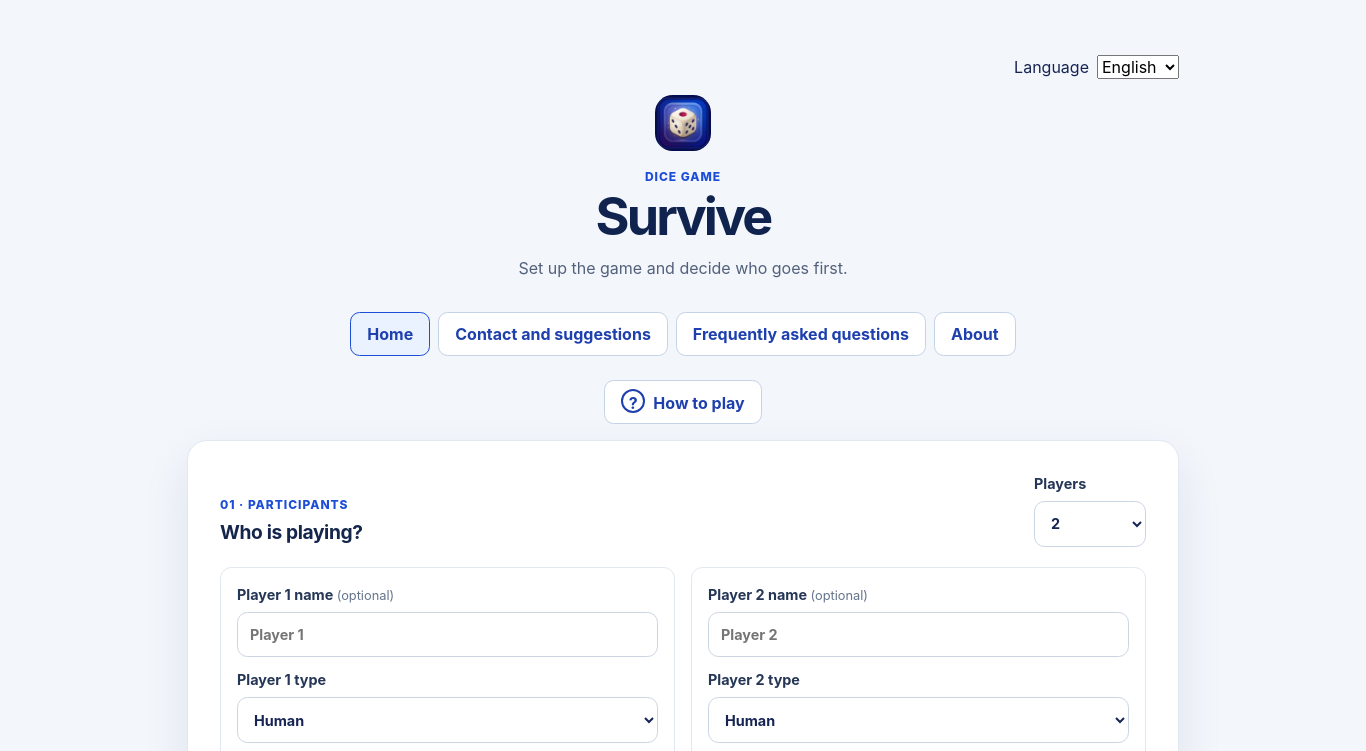
Test: App › traduce errores visibles al cambiar el idioma y no sobrescribe datos dañados
Select "Español" in the dropdown labelled "Language" at (1138, 67), box [1097,55,1179,79]
(page scrolled)
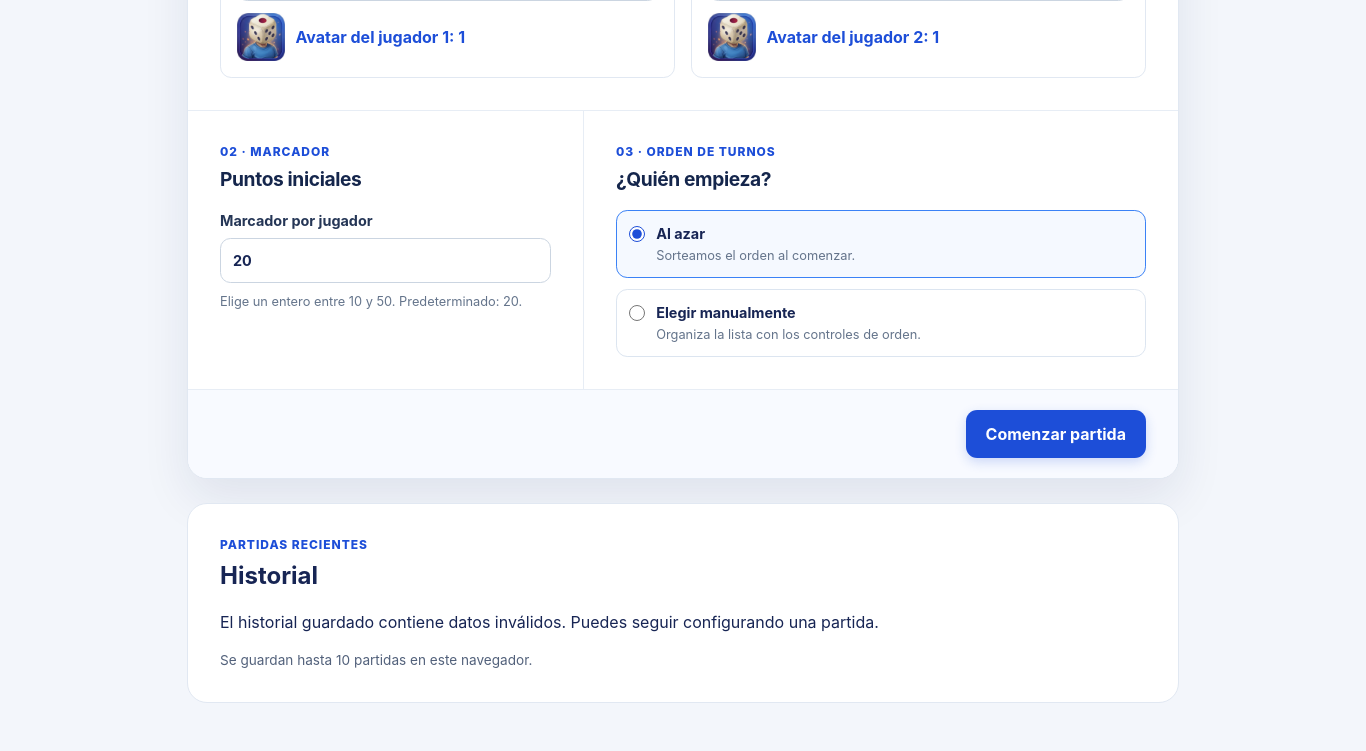
Result: the message shows "historial guardado contiene datos inválidos" at [220,612,566,632]
